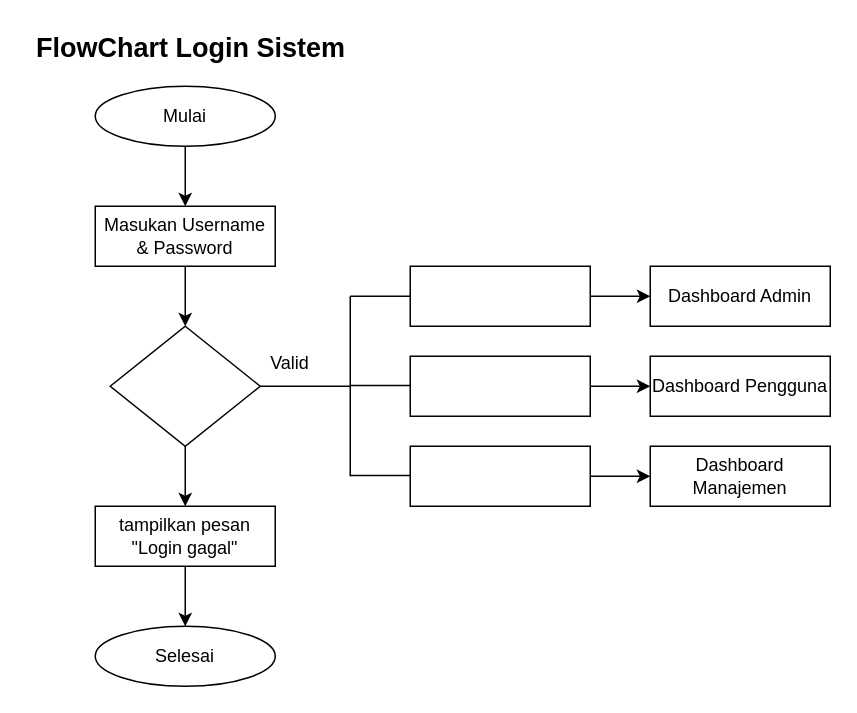
This 857x713 diagram has some shape labels left out. The shapes that lost their labels are listed below. From the top down, each one's box as (x1, y1, x2, y2) in pixels, then its label:
(409, 265, 590, 326): Role = Admin
(109, 325, 260, 446): Cek data di database
(409, 355, 590, 416): Role = Pengguna
(409, 445, 590, 506): Role = Manajemen
